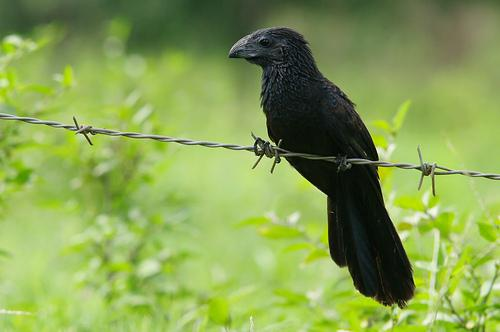004.Groove_billed_Ani: (227, 25, 417, 307)
